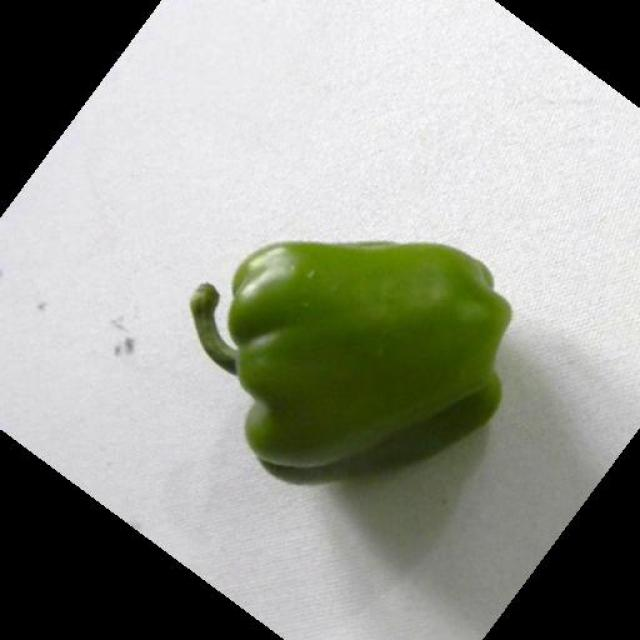Fresh_Capsicum: (184, 218, 548, 480)
